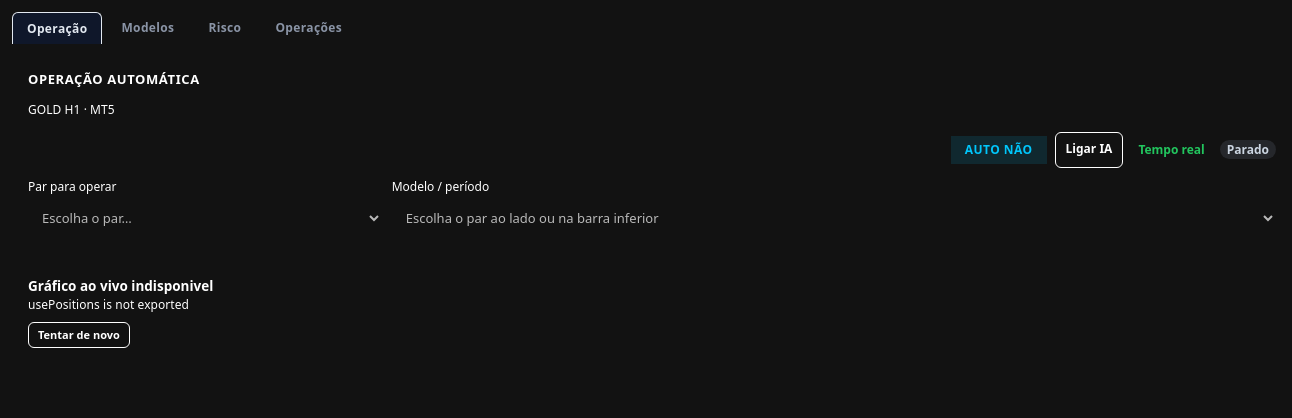
Test: RobotTabs — cada sub-aba mostra UMA coisa só (11/10/2026) › os campos de risco mostram o que o MOTOR ja guarda
This screenshot has width=1292, height=418.
Click the tab "Risco" at (225, 28), box [193,12,256,43]
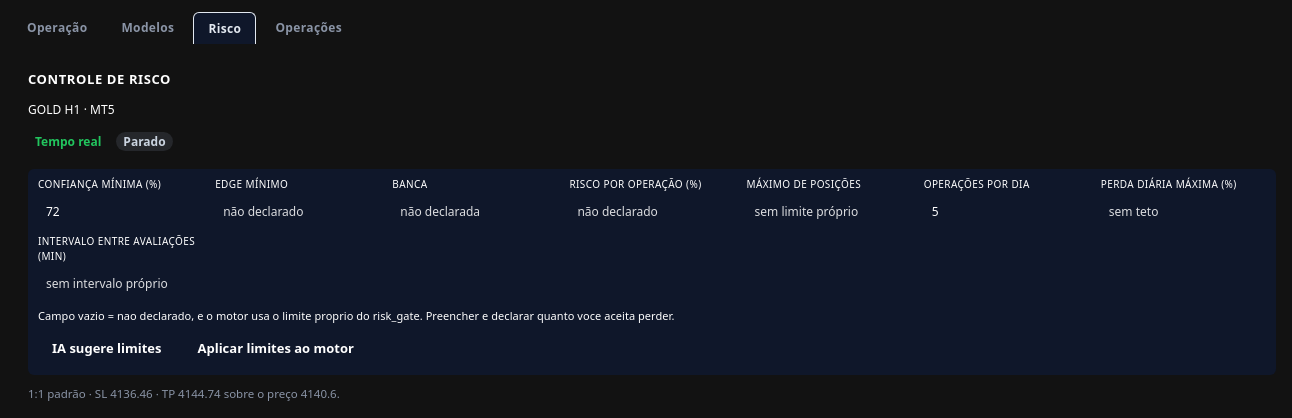
Now the number field labelled "Confiança mínima (%)" holds "72", box [38,196,203,228]
Now the number field named "Operações por dia" holds "5", box [924,196,1089,228]
Now the number field named "Banca" is empty, box [392,196,557,228]
